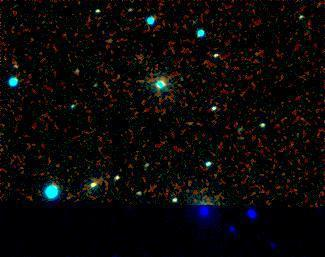star: (167, 60, 197, 90)
